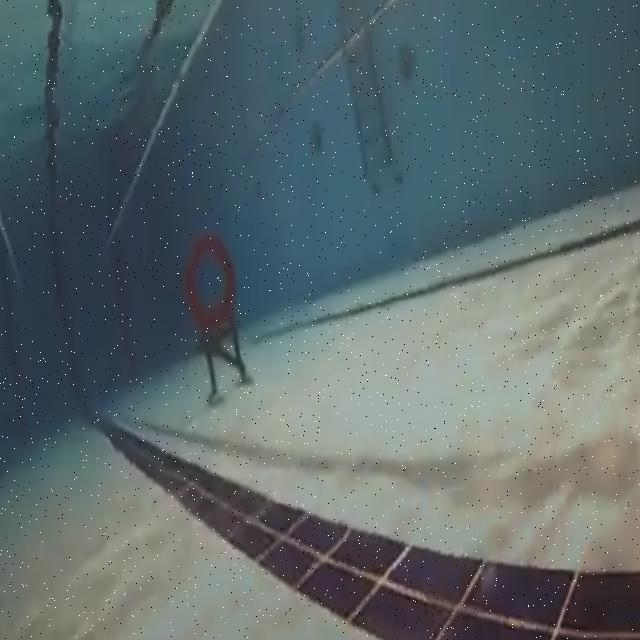Circle: (181, 234, 240, 336)
